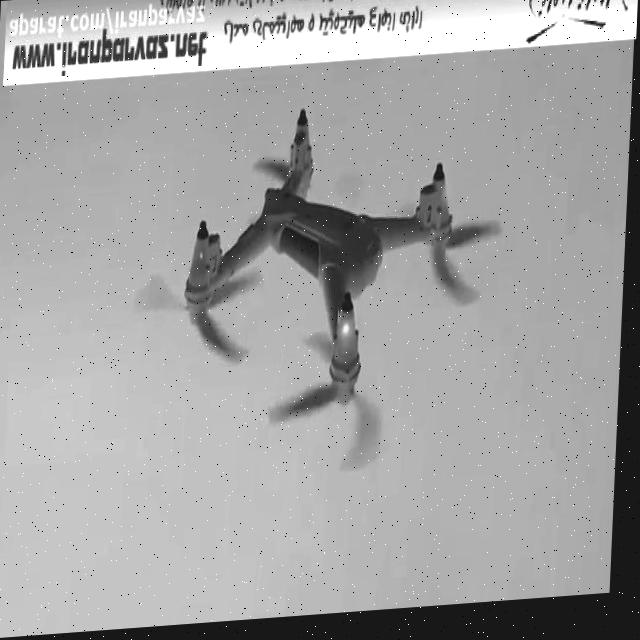drone: (122, 92, 516, 501)
